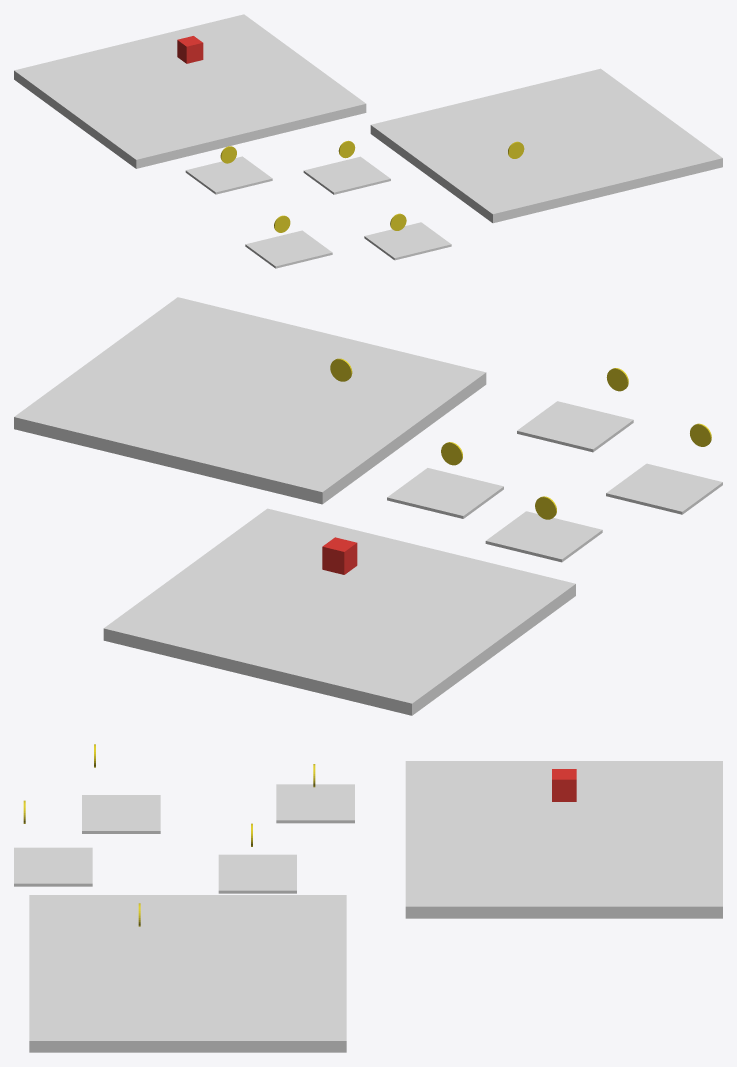
File: level0.gltf
3 views of the same model, one above another, from view 1: azimuth 30°, elevation 25°; view 2: azimuth 150°, elevation 25°; view 3: azimuth 270°, elevation 25° (orthographic). The views are drawn at different scales.
Parts seen in each view (by area): view 1: Platform.001, Platform.000, Platform.003, Platform.002, Platform.004, Platform.005, Player; view 2: Platform.001, Platform.000, Platform.003, Platform.004, Platform.002, Platform.005, Player; view 3: Platform.001, Platform.000, Platform.004, Platform.002, Platform.005, Platform.003, Player.
Boxes of the visible parts, x1,y1,x2,y2 form: Platform.001: (370, 68, 722, 223); Platform.000: (14, 14, 366, 168); Platform.003: (245, 230, 332, 268); Platform.002: (303, 156, 390, 194); Platform.004: (364, 222, 451, 260); Platform.005: (185, 156, 272, 194); Player: (177, 36, 203, 63); Platform.001: (14, 297, 486, 504); Platform.000: (103, 508, 575, 715); Platform.003: (606, 463, 722, 514); Platform.004: (517, 401, 633, 452); Platform.002: (387, 468, 503, 518); Platform.005: (485, 511, 602, 562); Player: (322, 537, 357, 574); Platform.001: (29, 895, 346, 1052); Platform.000: (405, 761, 722, 918); Platform.004: (14, 847, 92, 886); Platform.002: (218, 854, 296, 893); Platform.005: (276, 784, 354, 823); Platform.003: (82, 795, 160, 833); Player: (552, 769, 576, 801).
Bounding box in the file's own units: 26.84 × 3.89 × 28.72.
